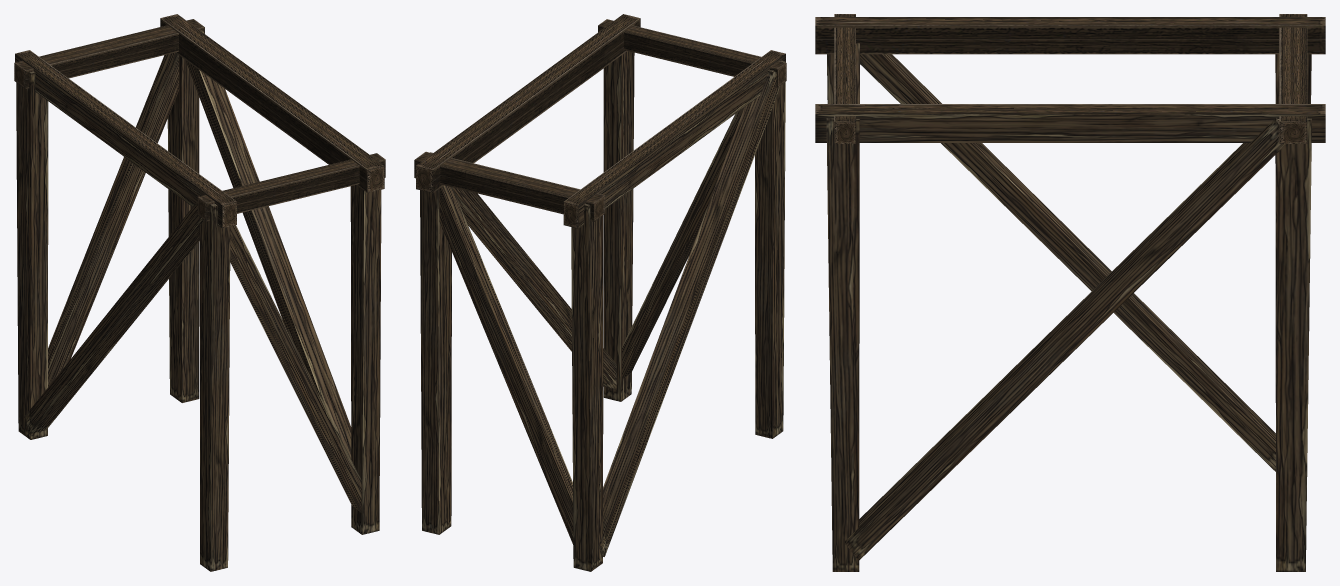
The model's file is Wood_4X8X8_03.fbx.
3 views of the same model, side by side, from view 1: azimuth 30°, elevation 25°; view 2: azimuth 150°, elevation 25°; view 3: azimuth 270°, elevation 25° (orthographic). The views are drawn at different scales.
Visible parts, largest first — view 1: Wood_4X8X8_03; view 2: Wood_4X8X8_03; view 3: Wood_4X8X8_03.
Part boxes in pixels (<box>): Wood_4X8X8_03: <box>14,14,385,571</box>; Wood_4X8X8_03: <box>414,14,786,571</box>; Wood_4X8X8_03: <box>815,14,1325,571</box>.
Size of the model in its own units: 4 by 7.9 by 8.
